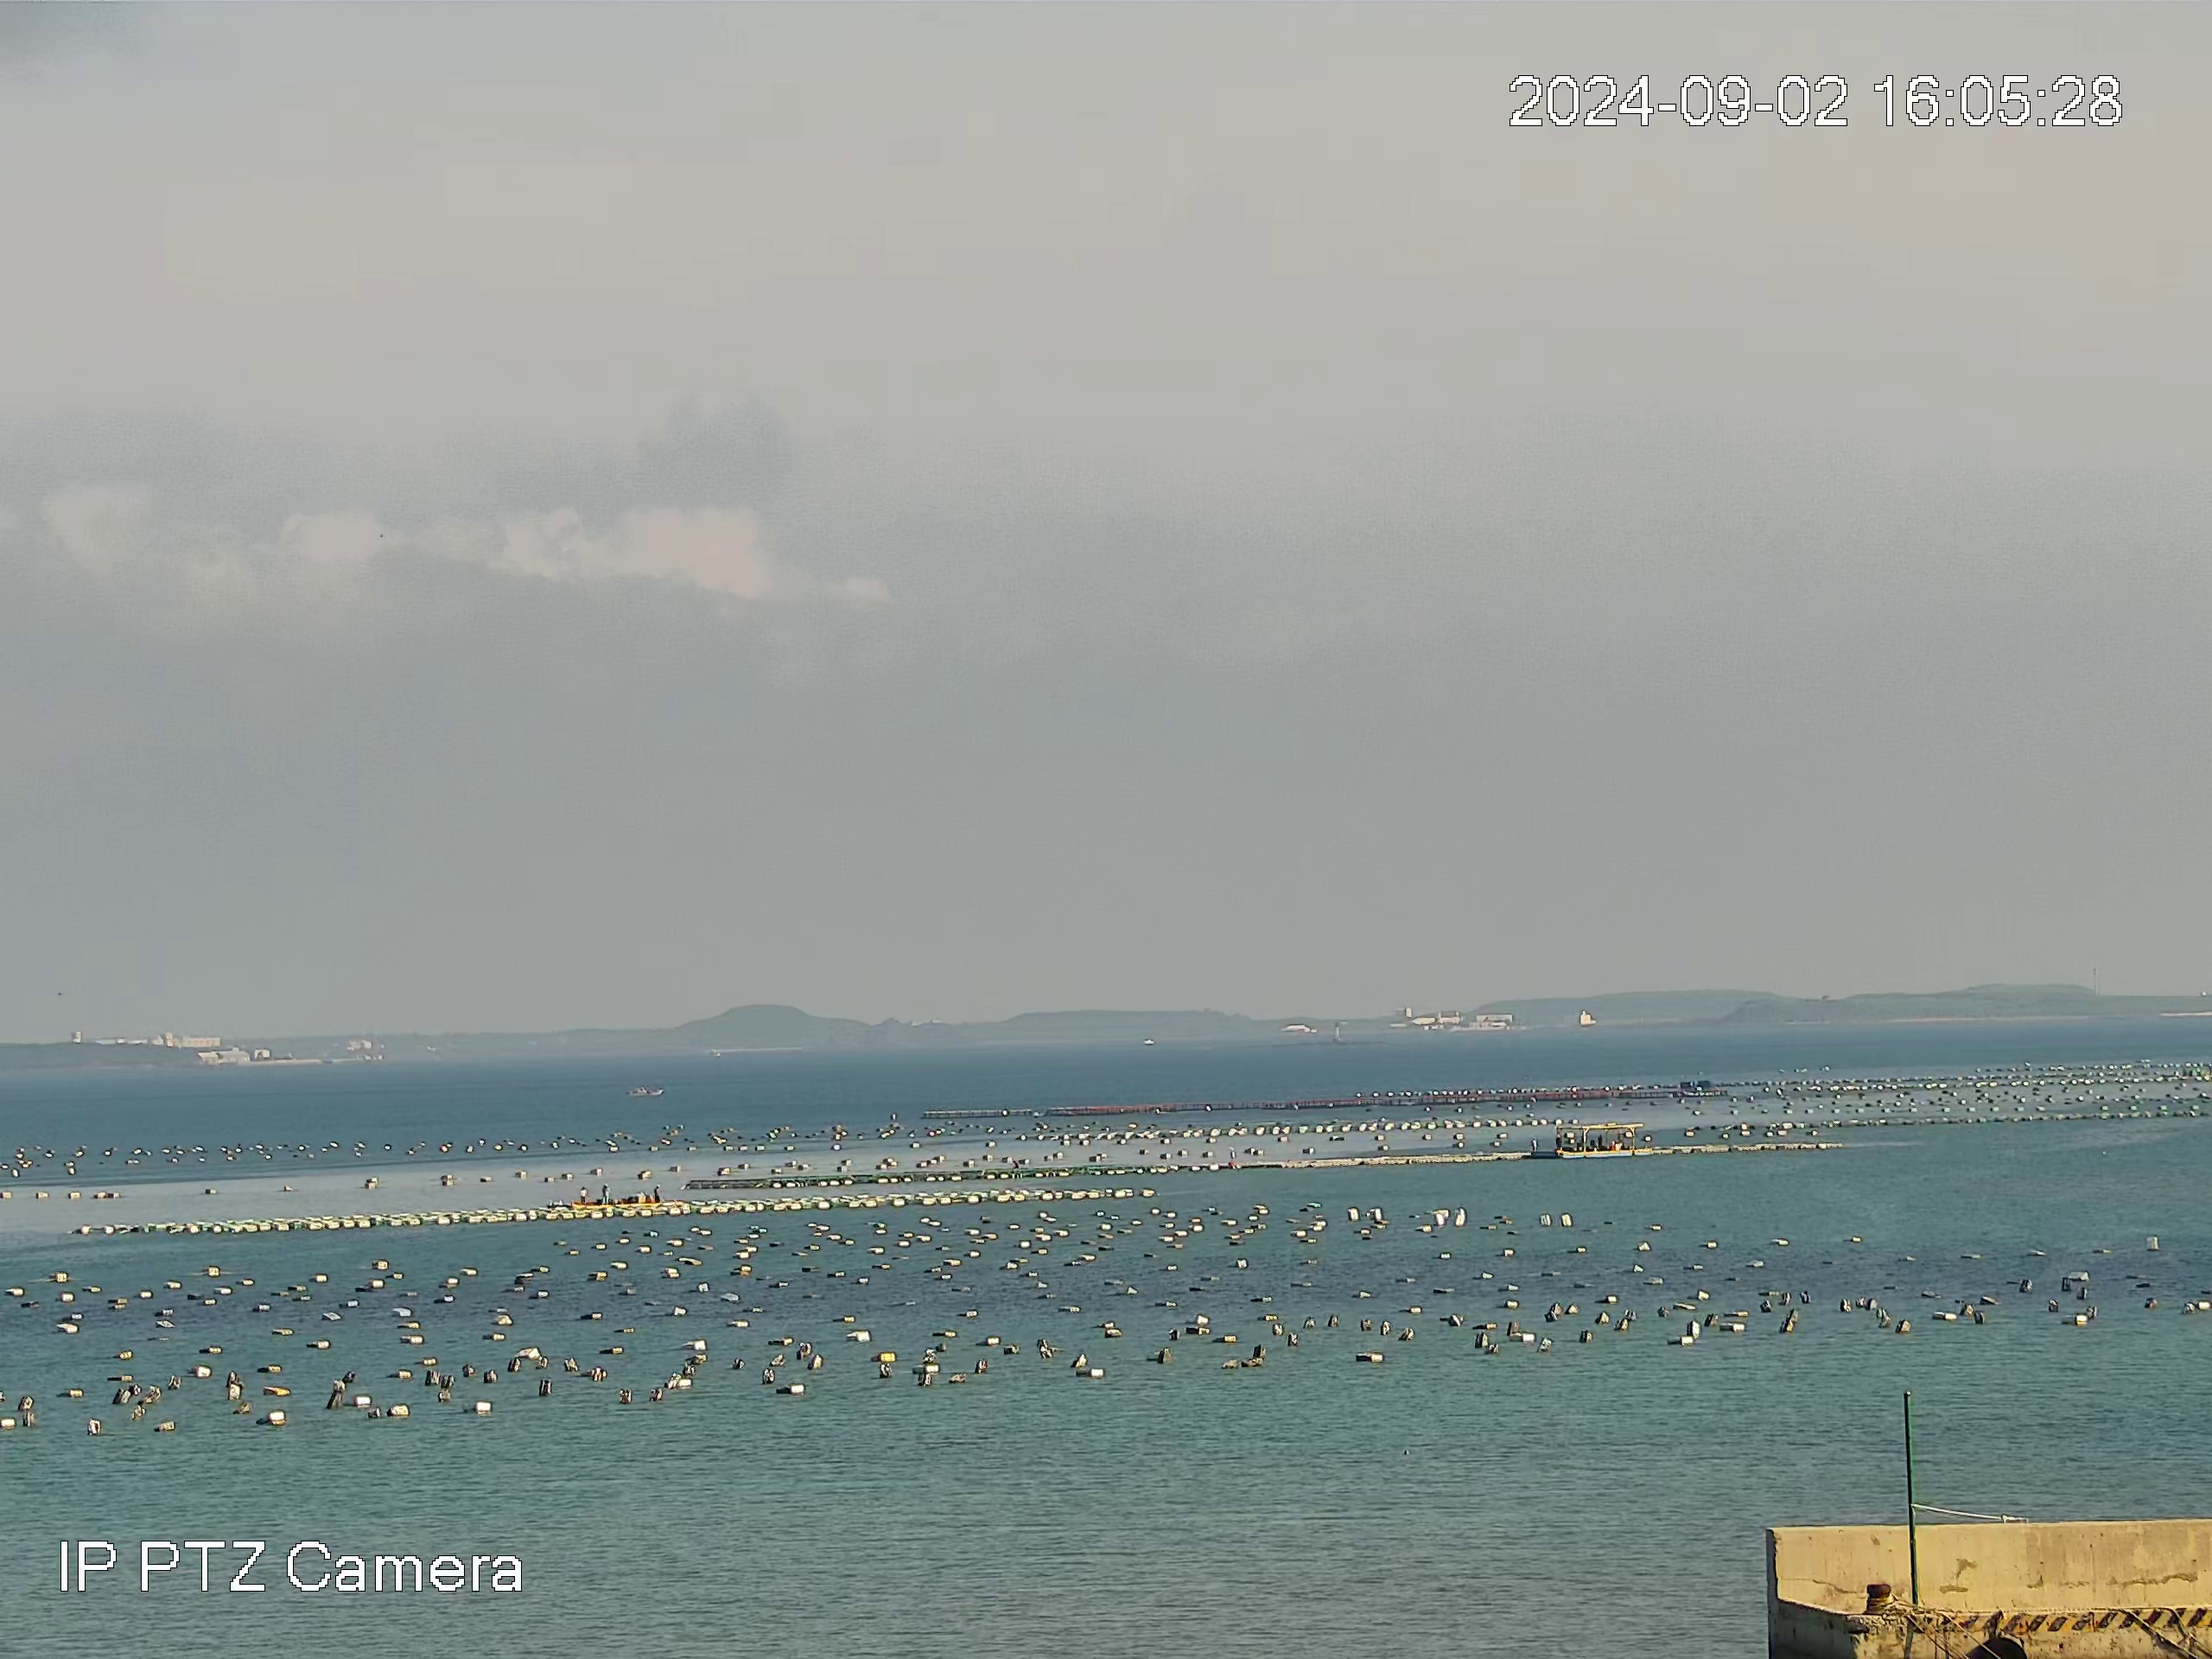boat: (1554, 1122, 1655, 1159), (570, 1182, 664, 1209), (625, 1084, 665, 1098)
